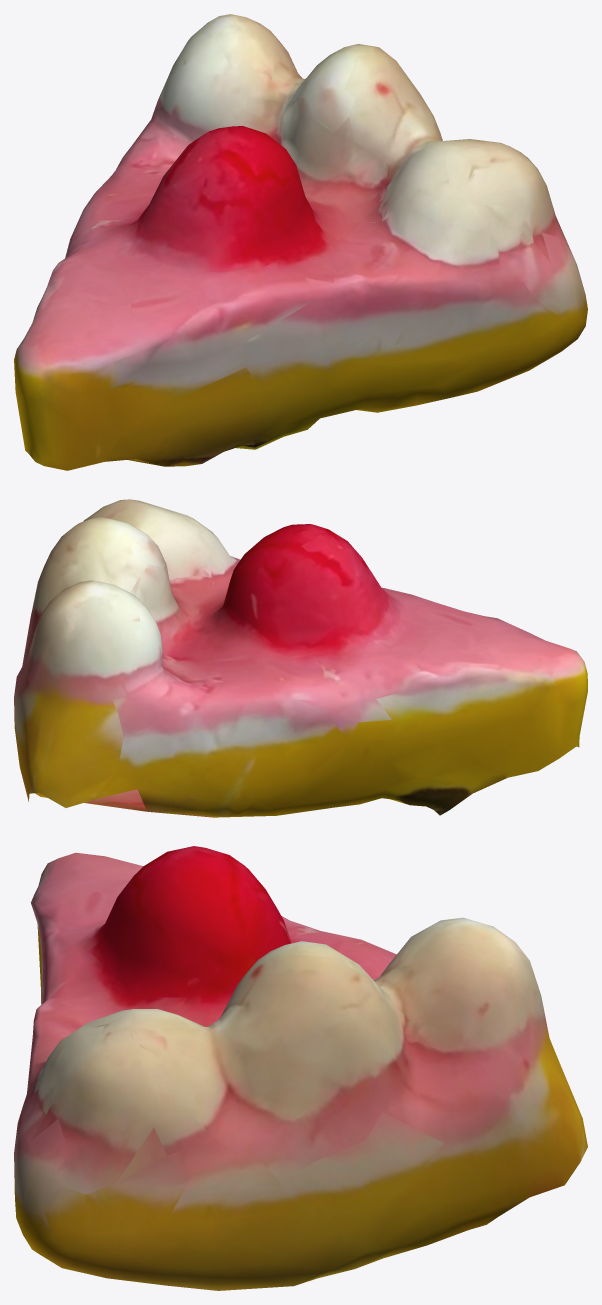
File: ps-cake.glb
The picture shows the model from 3 angles, top to bottom: view 1: azimuth 30°, elevation 25°; view 2: azimuth 150°, elevation 25°; view 3: azimuth 270°, elevation 25°; orthographic projection. The views are drawn at different scales.
Parts seen in each view (by area): view 1: baked_mesh; view 2: baked_mesh; view 3: baked_mesh.
Boxes of the visible parts, left/top/right/bottom form: baked_mesh: left=14, top=14, right=587, bottom=470; baked_mesh: left=14, top=499, right=587, bottom=817; baked_mesh: left=14, top=846, right=587, bottom=1290.
Bounding box in the file's own units: 0.1993 × 0.0962 × 0.1568.
1 material, 1 textured.
